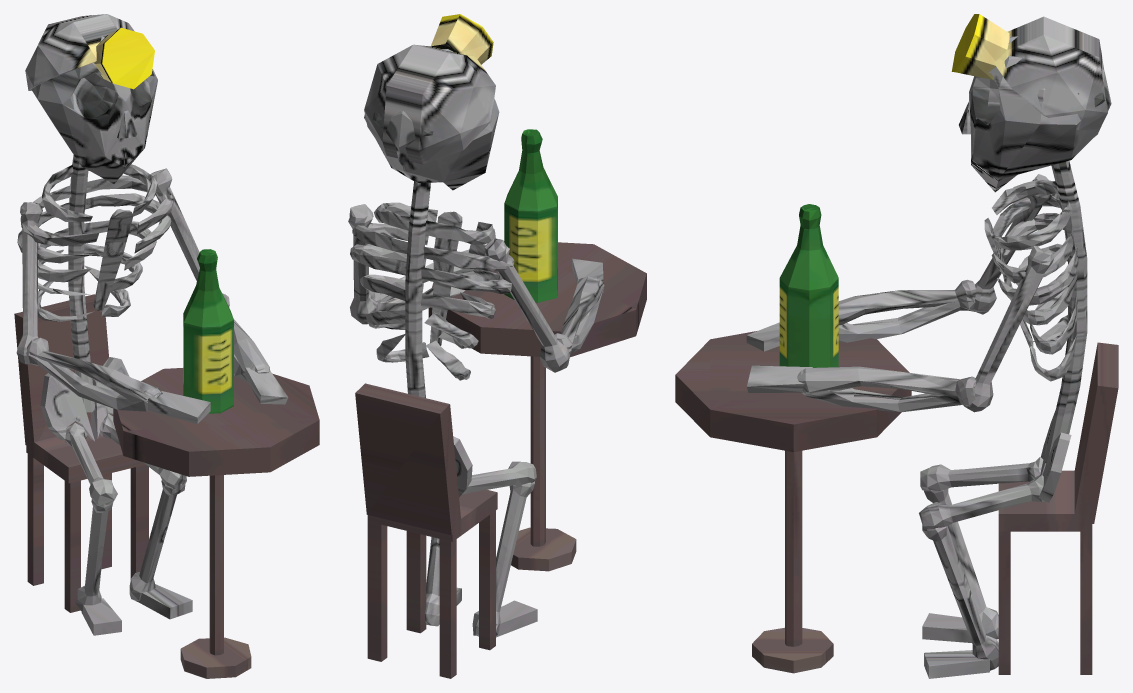
The model's file is Joe.glb.
The picture shows the model from 3 angles, left to right: view 1: azimuth 30°, elevation 25°; view 2: azimuth 150°, elevation 25°; view 3: azimuth 270°, elevation 25°; orthographic projection. The views are drawn at different scales.
Visible parts, largest first — view 1: Joe; view 2: Joe; view 3: Joe.
Boxes of the visible parts, bbox=[...] form: Joe: bbox=[14, 14, 319, 678]; Joe: bbox=[348, 14, 646, 678]; Joe: bbox=[675, 14, 1118, 678].
Bounding box in the file's own units: 129 × 347 × 217.
1 material, 1 textured.
